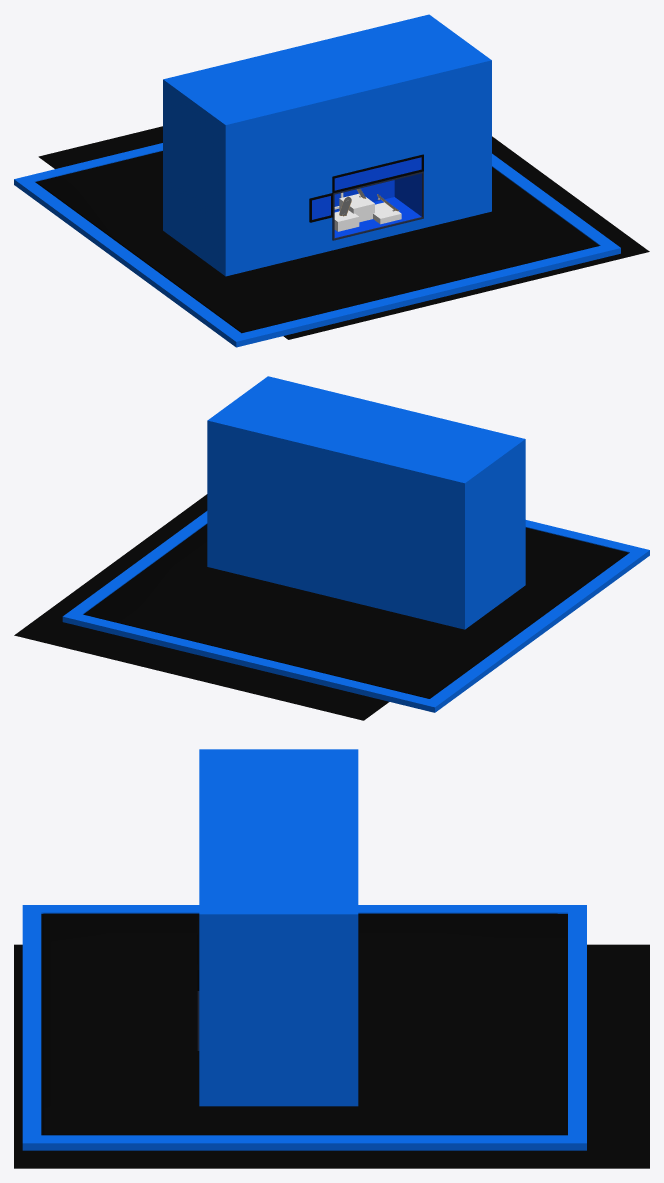
File: escaparate_2_v4.glb
The picture shows the model from 3 angles, top to bottom: view 1: azimuth 30°, elevation 25°; view 2: azimuth 150°, elevation 25°; view 3: azimuth 270°, elevation 25°; orthographic projection. The views are drawn at different scales.
Parts seen in each view (by area): view 1: construccion, Plano, Plano.1, asfalto, Cubo.3, letrero-big, pared2, piso-techo, marco, marco-large, pared1; view 2: construccion, Plano, asfalto, Plano.1; view 3: Plano, construccion, asfalto, Plano.1.
Boxes of the visible parts, bbox=[...] form: construccion: bbox=[163, 14, 491, 276]; Plano: bbox=[35, 151, 599, 333]; Plano.1: bbox=[14, 143, 620, 347]; asfalto: bbox=[38, 126, 649, 339]; Cubo.3: bbox=[334, 193, 401, 231]; letrero-big: bbox=[334, 157, 421, 190]; pared2: bbox=[394, 173, 421, 216]; piso-techo: bbox=[334, 197, 421, 237]; marco: bbox=[332, 171, 423, 240]; marco-large: bbox=[332, 154, 423, 193]; pared1: bbox=[345, 180, 394, 201]; construccion: bbox=[207, 376, 525, 629]; Plano: bbox=[84, 524, 628, 698]; asfalto: bbox=[14, 494, 388, 720]; Plano.1: bbox=[62, 511, 649, 712]; Plano: bbox=[41, 913, 567, 1135]; construccion: bbox=[199, 749, 358, 1106]; asfalto: bbox=[14, 944, 649, 1168]; Plano.1: bbox=[22, 905, 586, 1150].
Size of the model in its own units: 11.35 by 4.2 by 12.
Materials: 6 (1 with a texture image).
